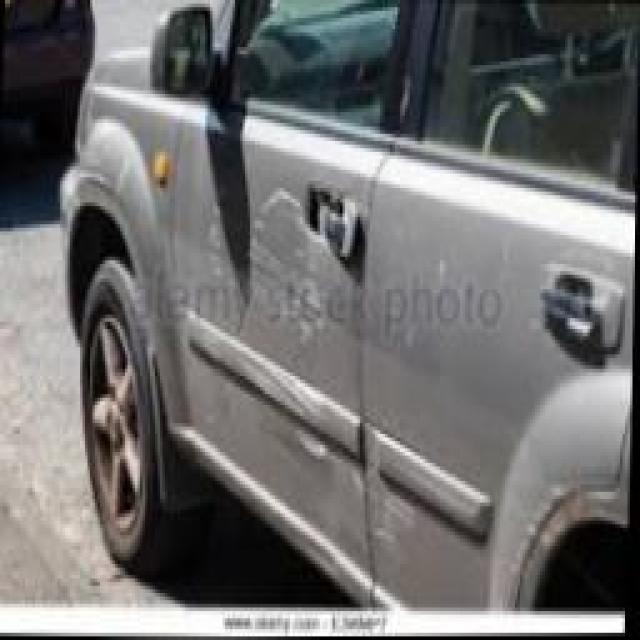Door: (192, 180, 334, 364), (368, 443, 428, 560)
